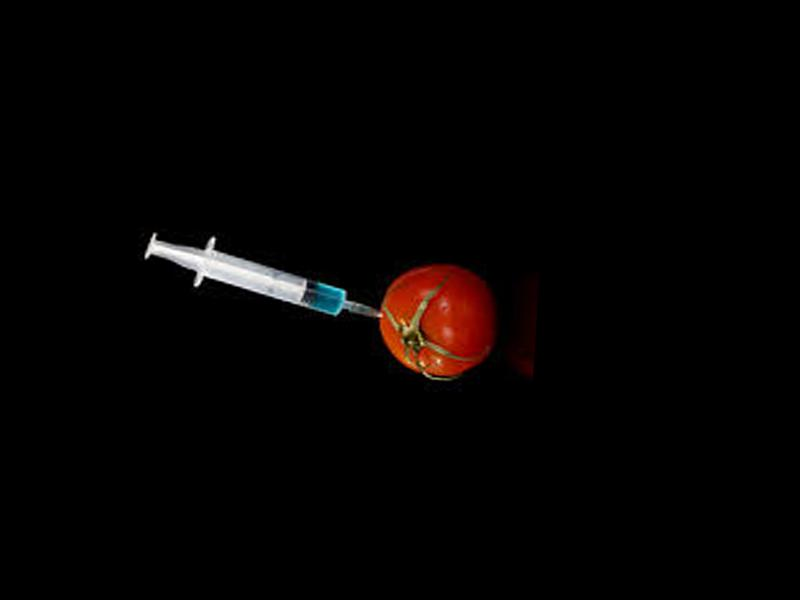Tomato: (375, 259, 496, 382)
